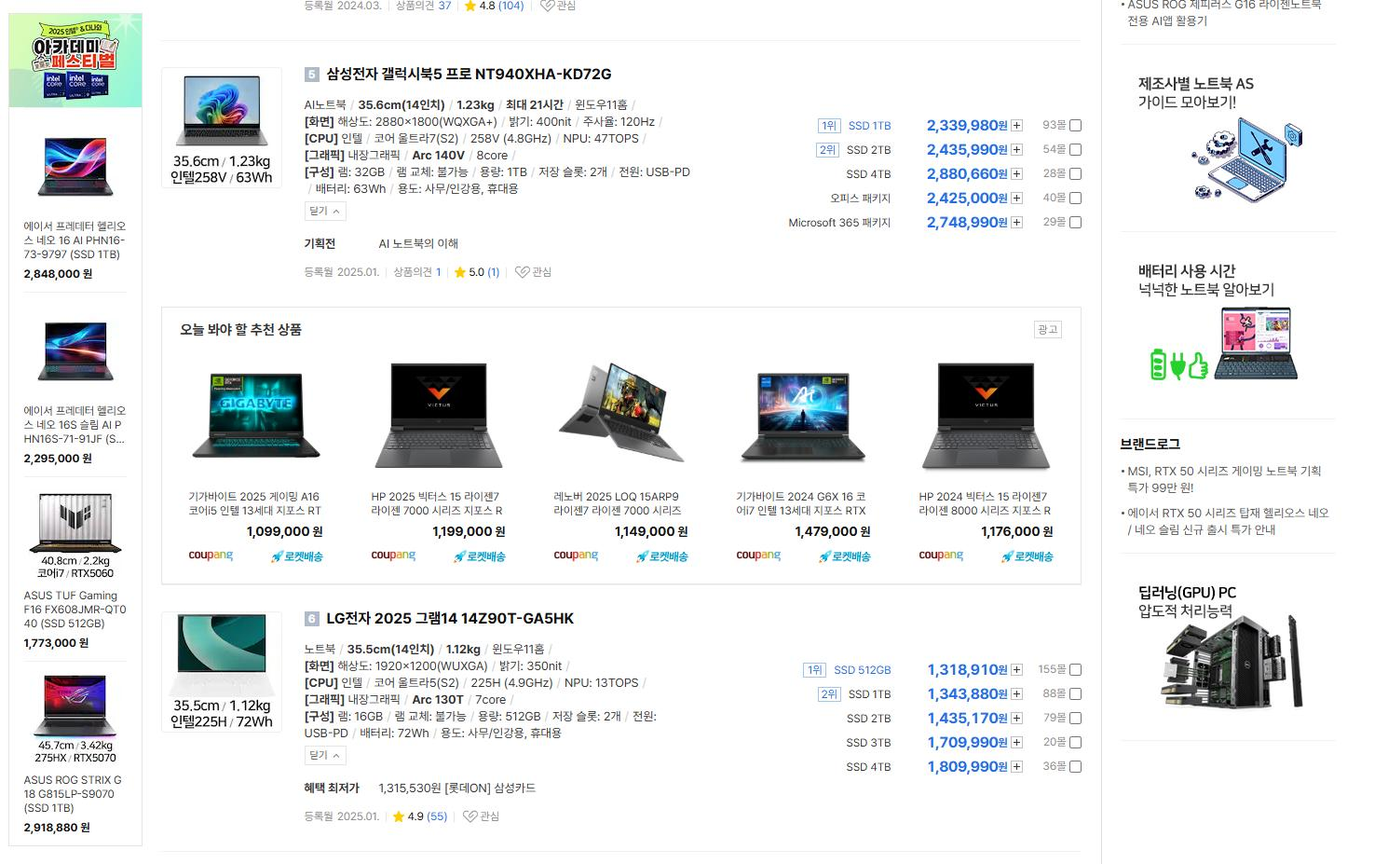button: (511, 254, 563, 288), (458, 804, 506, 835), (1011, 684, 1026, 705), (1009, 117, 1026, 135), (1008, 212, 1024, 231), (1009, 660, 1025, 678), (1010, 755, 1023, 777), (1010, 709, 1024, 728), (1008, 168, 1024, 183), (1009, 191, 1025, 206), (1010, 142, 1024, 158), (1010, 733, 1025, 747)
checkbox: (1039, 752, 1089, 781), (1034, 658, 1084, 683), (303, 743, 352, 768), (1042, 728, 1090, 753), (1038, 682, 1089, 705), (305, 197, 348, 224), (1043, 186, 1084, 212), (1041, 707, 1086, 729), (1041, 141, 1085, 163), (1040, 112, 1081, 135), (1040, 215, 1085, 233), (1042, 166, 1084, 185)
popup: (162, 310, 1082, 585), (10, 9, 141, 845)
